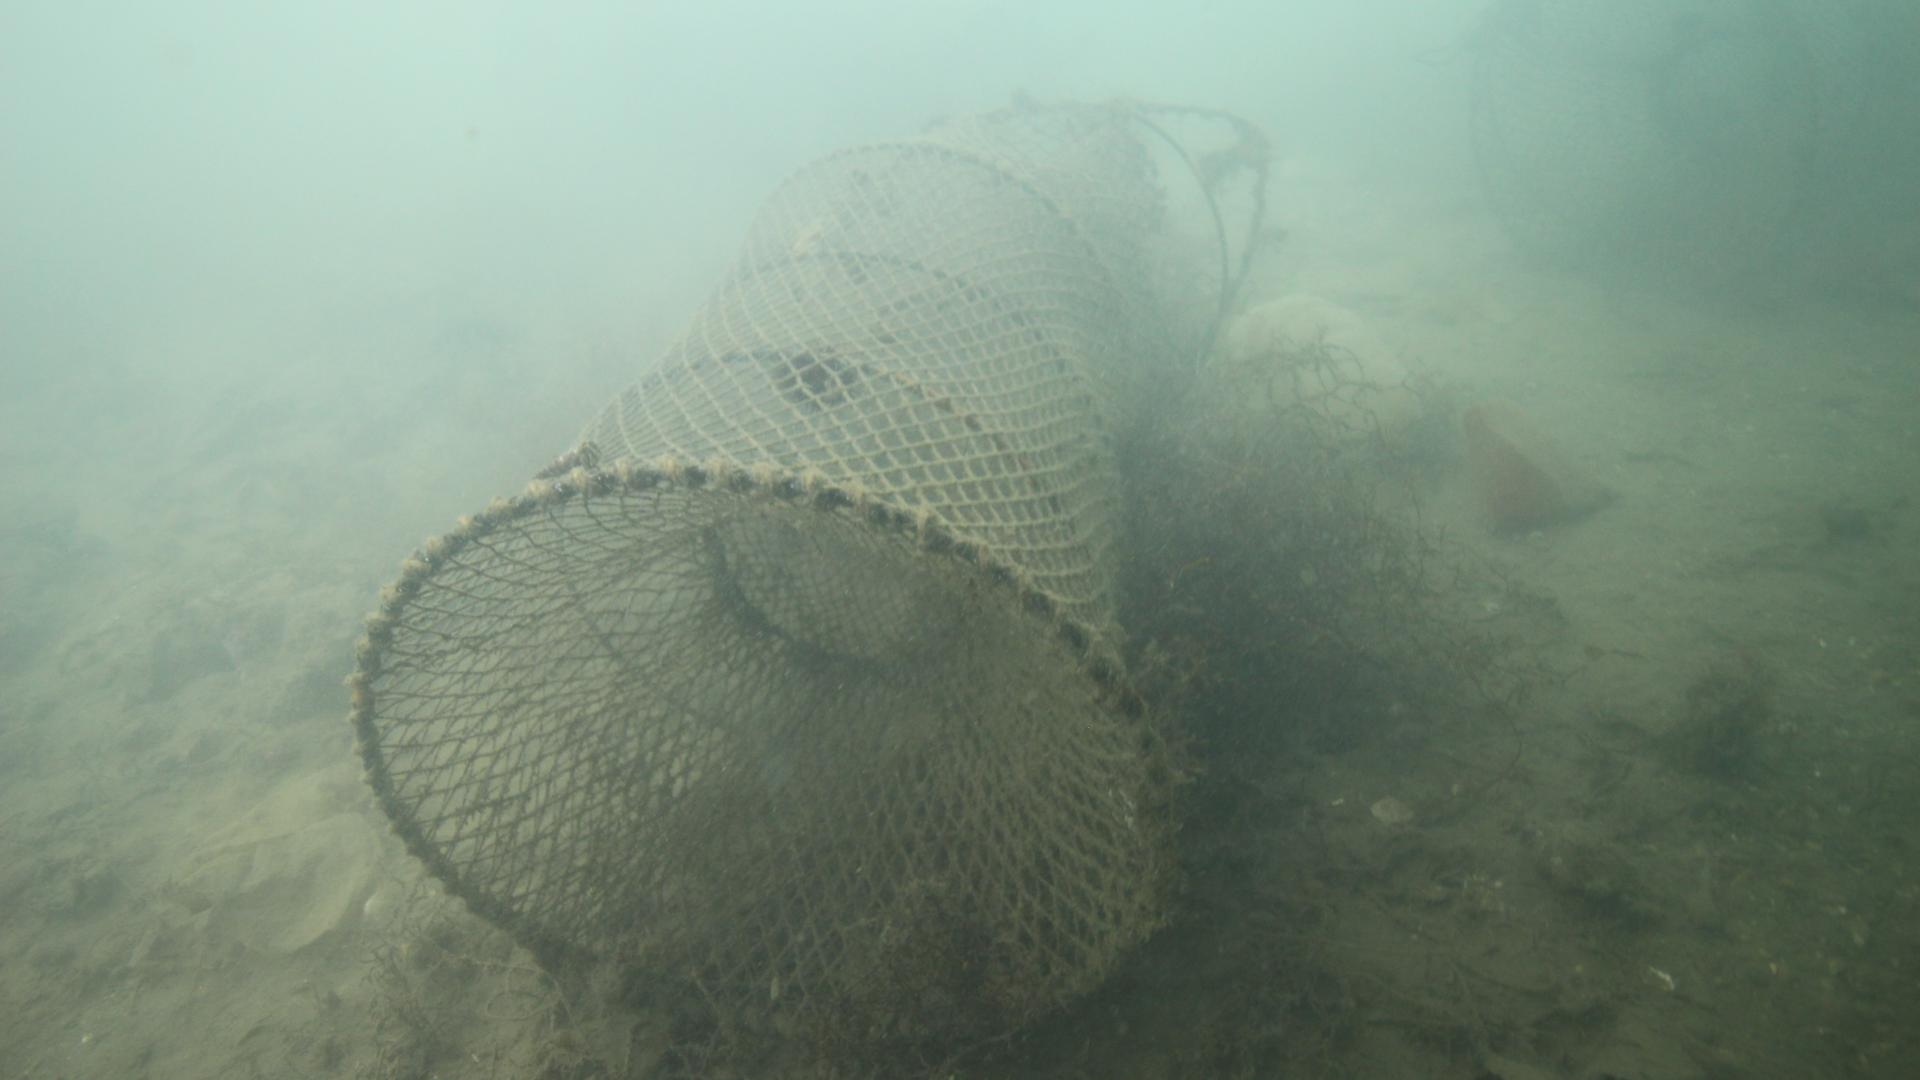spring fish trap: (345, 98, 1269, 1052)
